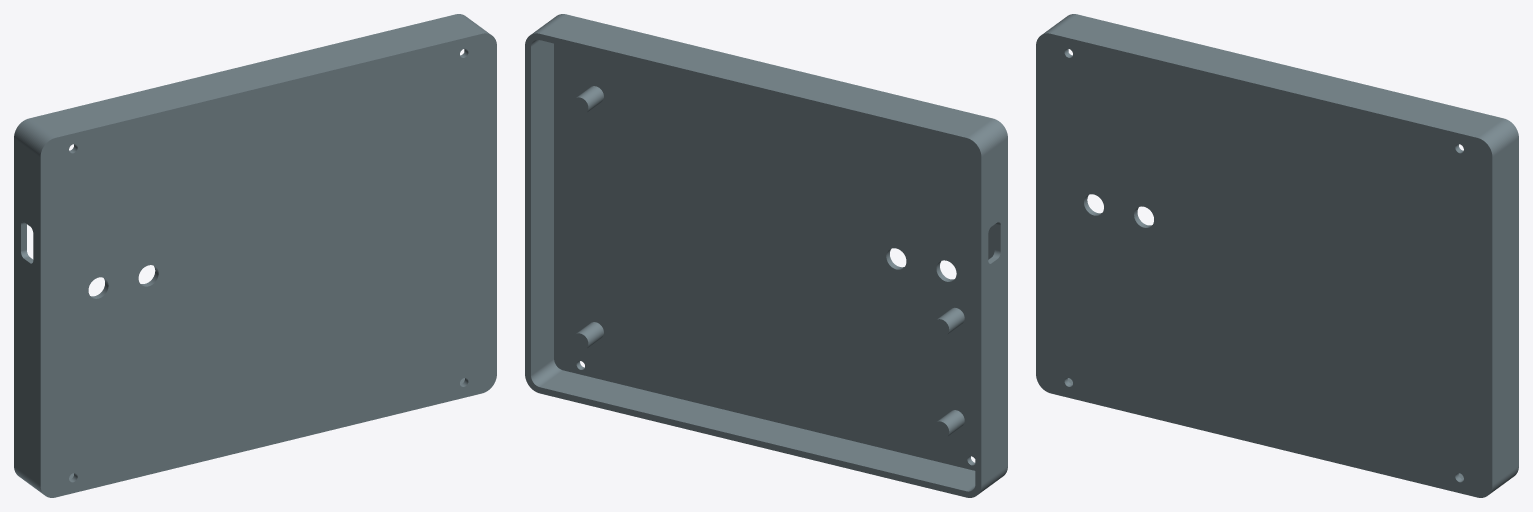
Rendered from rear.glb.
3 renders of one model, left to right at view 1: azimuth 30°, elevation 25°; view 2: azimuth 150°, elevation 25°; view 3: azimuth 330°, elevation 25°, orthographic.
Parts seen in each view (by area): view 1: REAR_0; view 2: REAR_0; view 3: REAR_0.
Part boxes in pixels (left/top/right/bottom): REAR_0: left=14, top=14, right=496, bottom=497; REAR_0: left=525, top=14, right=1007, bottom=497; REAR_0: left=1036, top=14, right=1518, bottom=497.
Bounding box in the file's own units: 182 × 137 × 18.35.
